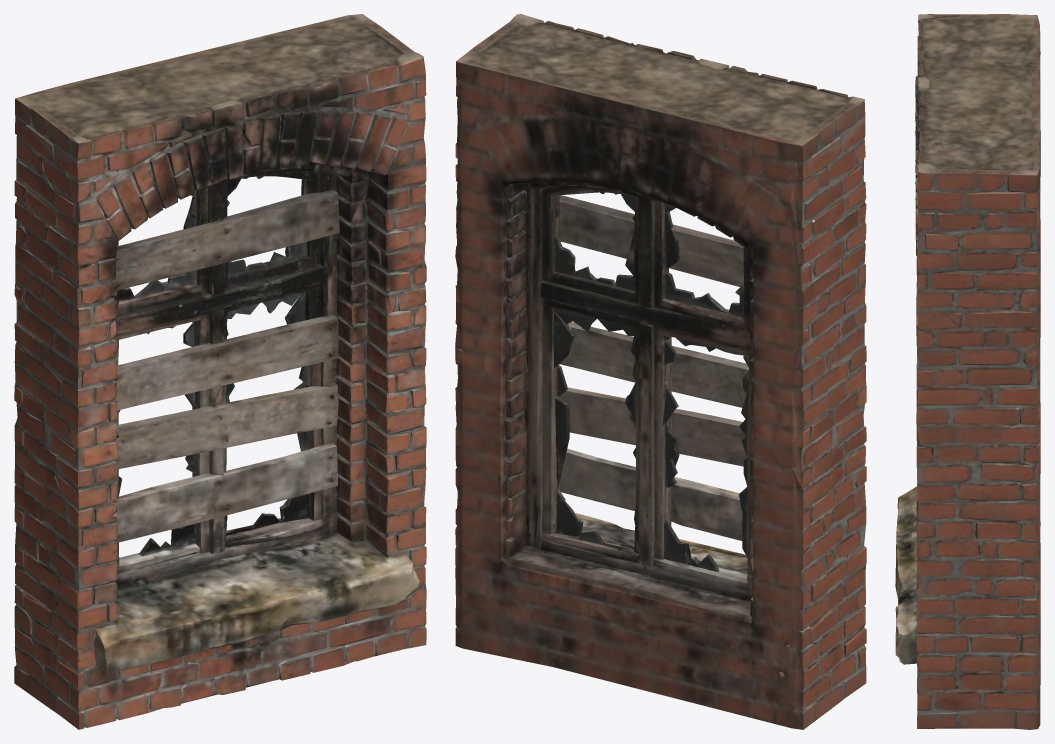
File: familok_window_boarded.glb
3 renders of one model, left to right at view 1: azimuth 30°, elevation 25°; view 2: azimuth 150°, elevation 25°; view 3: azimuth 270°, elevation 25°, orthographic. The views are drawn at different scales.
Visible parts, largest first — view 1: main; view 2: main; view 3: main.
Part boxes in pixels (<box>): main: <box>14,14,426,729</box>; main: <box>455,14,866,729</box>; main: <box>895,14,1040,729</box>.
Size of the model in its own units: 1.08 by 1.74 by 0.4102.
Materials: 1 (1 with a texture image).
